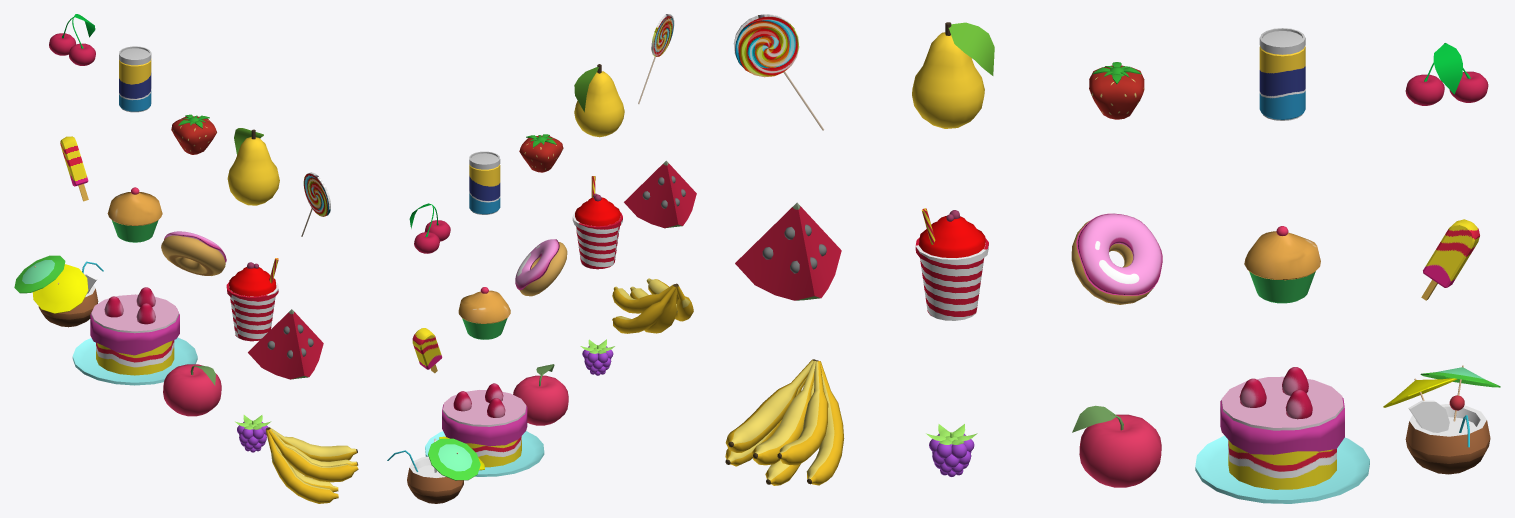
Rendered from Apple.fbx.
3 views of the same model, side by side, from view 1: azimuth 30°, elevation 25°; view 2: azimuth 150°, elevation 25°; view 3: azimuth 270°, elevation 25° (orthographic). The views are drawn at different scales.
Parts seen in each view (by area): view 1: Cake, Bananas, Watermelon, Milkshake, Pear, Apple, Cupcake, Donut.001, Can, umbrella1, umbrella, Cherry (+5 smaller); view 2: Cake, Bananas, Watermelon, Milkshake, Pear, Apple, Cupcake, Donut.001, Can, umbrella, coconut, pCube1 (+4 smaller); view 3: Cake, Bananas, Donut.001, Watermelon, Pear, Milkshake, Apple, Cupcake, Can, coconut, Lollipop, Cherry (+5 smaller).
Boxes of the visible parts, box(x1,y1,x2,y2) form: Cake: box(72, 287, 197, 385); Bananas: box(265, 427, 358, 503); Watermelon: box(248, 309, 323, 379); Milkshake: box(226, 258, 278, 341); Pear: box(227, 128, 279, 205); Apple: box(163, 364, 221, 416); Cupcake: box(107, 187, 162, 242); Donut.001: box(161, 231, 226, 275); Can: box(119, 46, 151, 112); umbrella1: box(32, 264, 88, 313); umbrella: box(14, 255, 65, 293); Cherry: box(49, 14, 95, 65); Cake: box(425, 383, 544, 476); Bananas: box(612, 278, 693, 333); Watermelon: box(624, 160, 696, 228); Milkshake: box(572, 176, 622, 269); Pear: box(574, 64, 624, 137); Apple: box(513, 364, 568, 425); Cupcake: box(458, 287, 510, 339); Donut.001: box(515, 239, 567, 296); Can: box(469, 151, 500, 214); umbrella: box(428, 438, 480, 480); coconut: box(407, 456, 463, 503); pCube1: box(519, 135, 563, 172); Cake: box(1195, 367, 1369, 503); Bananas: box(725, 359, 844, 485); Donut.001: box(1071, 213, 1162, 304); Watermelon: box(735, 202, 841, 300); Pear: box(912, 22, 994, 128); Milkshake: box(915, 208, 988, 320); Apple: box(1072, 405, 1161, 487); Cupcake: box(1244, 226, 1320, 303); Can: box(1259, 28, 1305, 120); coconut: box(1405, 404, 1490, 474); Lollipop: box(733, 14, 824, 130); Cherry: box(1405, 43, 1488, 105).
Size of the model in its own units: 159 by 467 by 703.
Materials: 51 (12 with a texture image).
